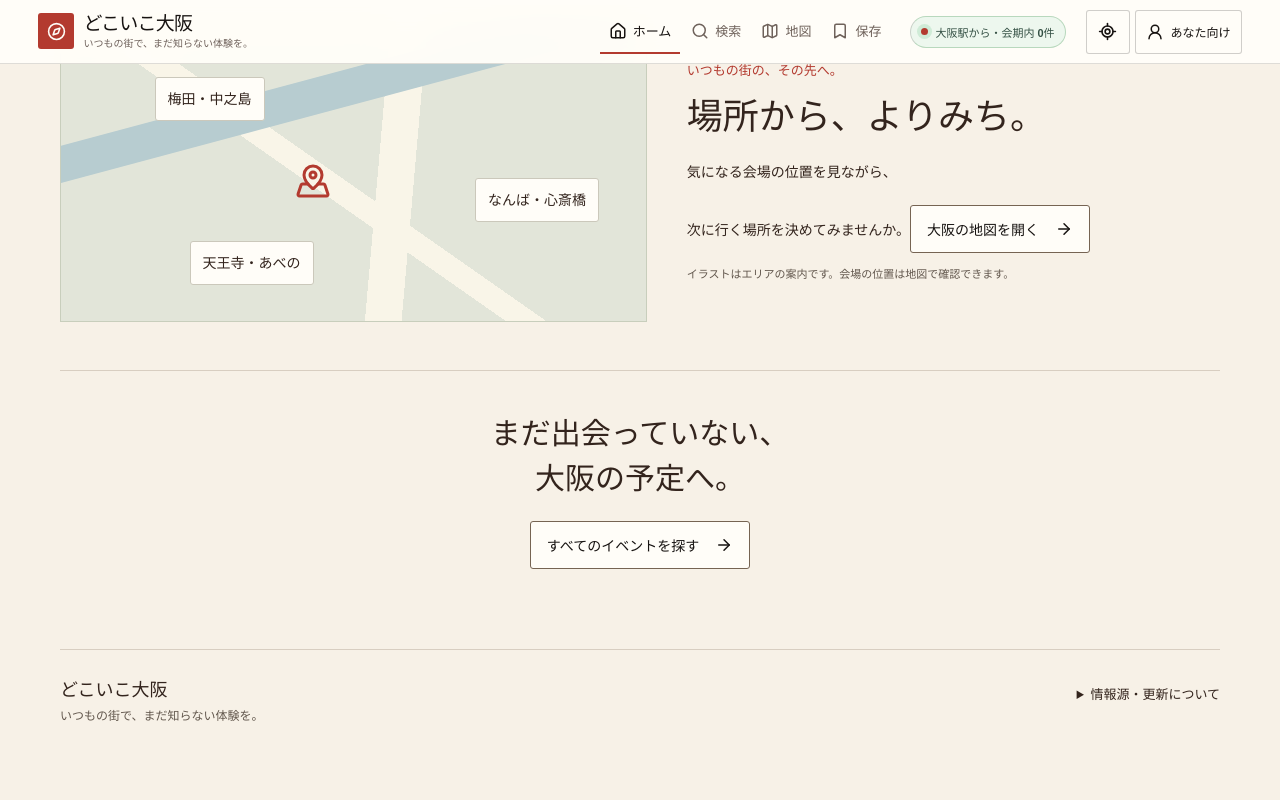
Test: App editorial home integration › keeps an unknown-coordinate event in the list and detail without a broken route
The image size is (1280, 800).
(page scrolled)
What coordinates should you click on to do the following:
click the button "すべてのイベントを探す"
I would click on:
 (640, 545)
Its box is [530, 521, 750, 569].
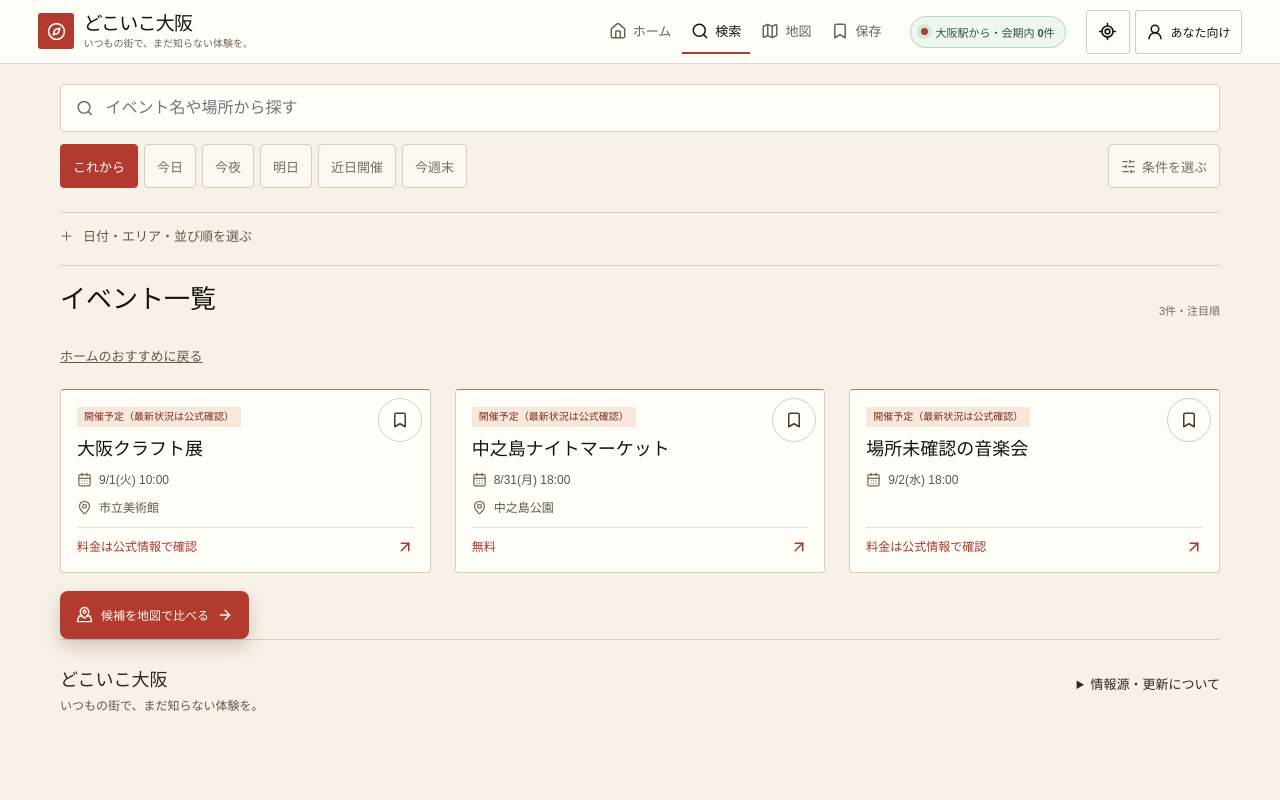
Check: the 3rd link with class "home-event-card" is shown
What coordinates should you click on to do the following:
click the 3rd link with class "home-event-card"
I would click on:
 (948, 417)
Its box is [850, 390, 1219, 572].
(page scrolled)
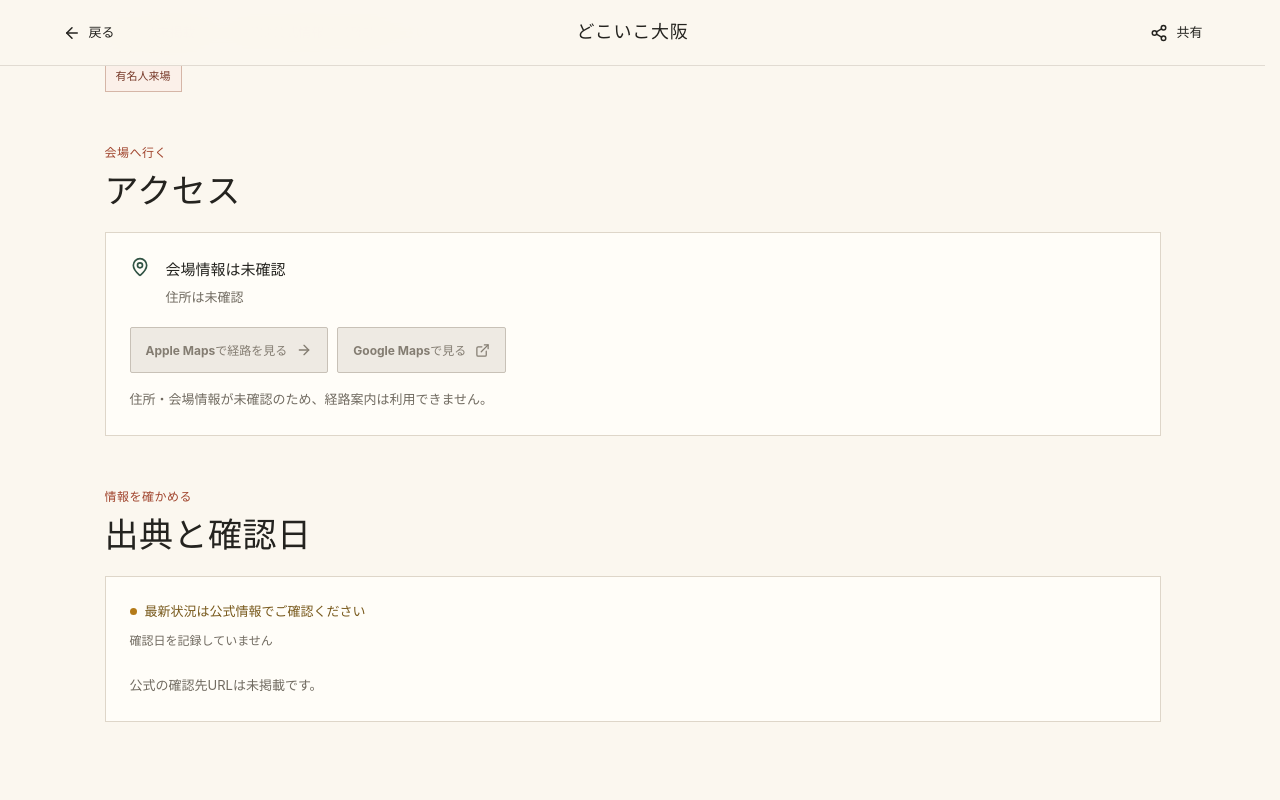
Check: the button "Apple Mapsで経路を見る" is disabled, box [130, 327, 328, 373]
Check: the text "住所・会場情報が未確認のため、経路案内は利用できません。" is shown, box [130, 391, 493, 407]
